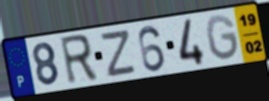4: (178, 17, 208, 68)
6: (137, 23, 167, 73)
8: (31, 42, 62, 88)
G: (204, 13, 242, 63)
R: (58, 32, 101, 87)
Z: (100, 27, 138, 79)
